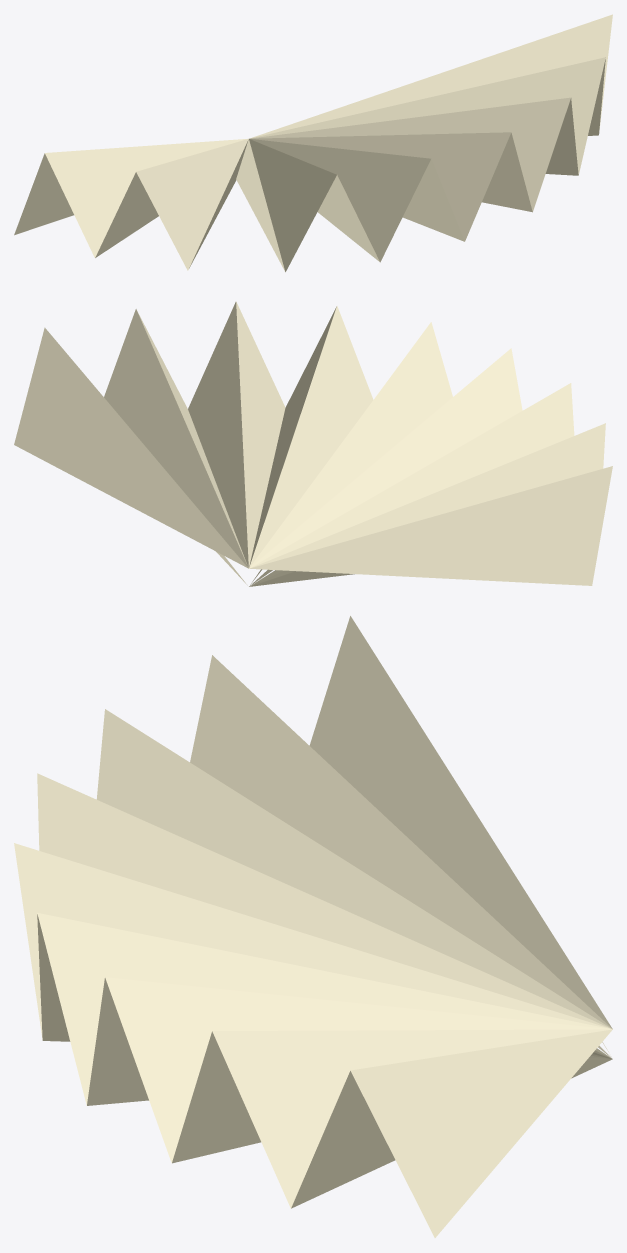
File: shell_scallop.glb
3 renders of one model, top to bottom at view 1: azimuth 30°, elevation 25°; view 2: azimuth 150°, elevation 25°; view 3: azimuth 270°, elevation 25°, orthographic. The views are drawn at different scales.
Parts seen in each view (by area): view 1: shell_scallop; view 2: shell_scallop; view 3: shell_scallop.
Boxes of the visible parts, x1,y1,x2,y2 form: shell_scallop: (14,14,612,272); shell_scallop: (14,301,612,586); shell_scallop: (14,616,612,1237).
Size of the model in its own units: 0.1331 by 0.029 by 0.0728.
